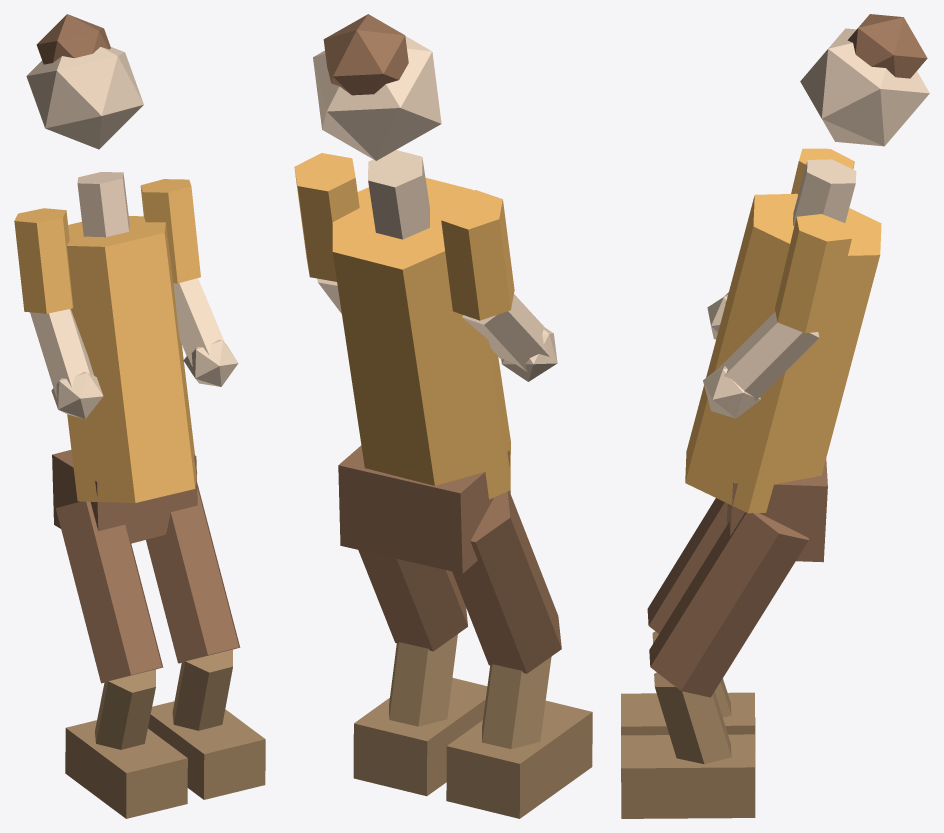
File: pose_hit_light_10.glb
3 views of the same model, side by side, from view 1: azimuth 30°, elevation 25°; view 2: azimuth 150°, elevation 25°; view 3: azimuth 270°, elevation 25° (orthographic). The views are drawn at different scales.
Parts seen in each view (by area): view 1: pose; view 2: pose; view 3: pose.
Boxes of the visible parts, x1,y1,x2,y2 form: pose: [14, 14, 265, 818]; pose: [294, 14, 592, 818]; pose: [621, 14, 929, 818].
Bounding box in the file's own units: 0.4006 × 1.51 × 0.5537.
